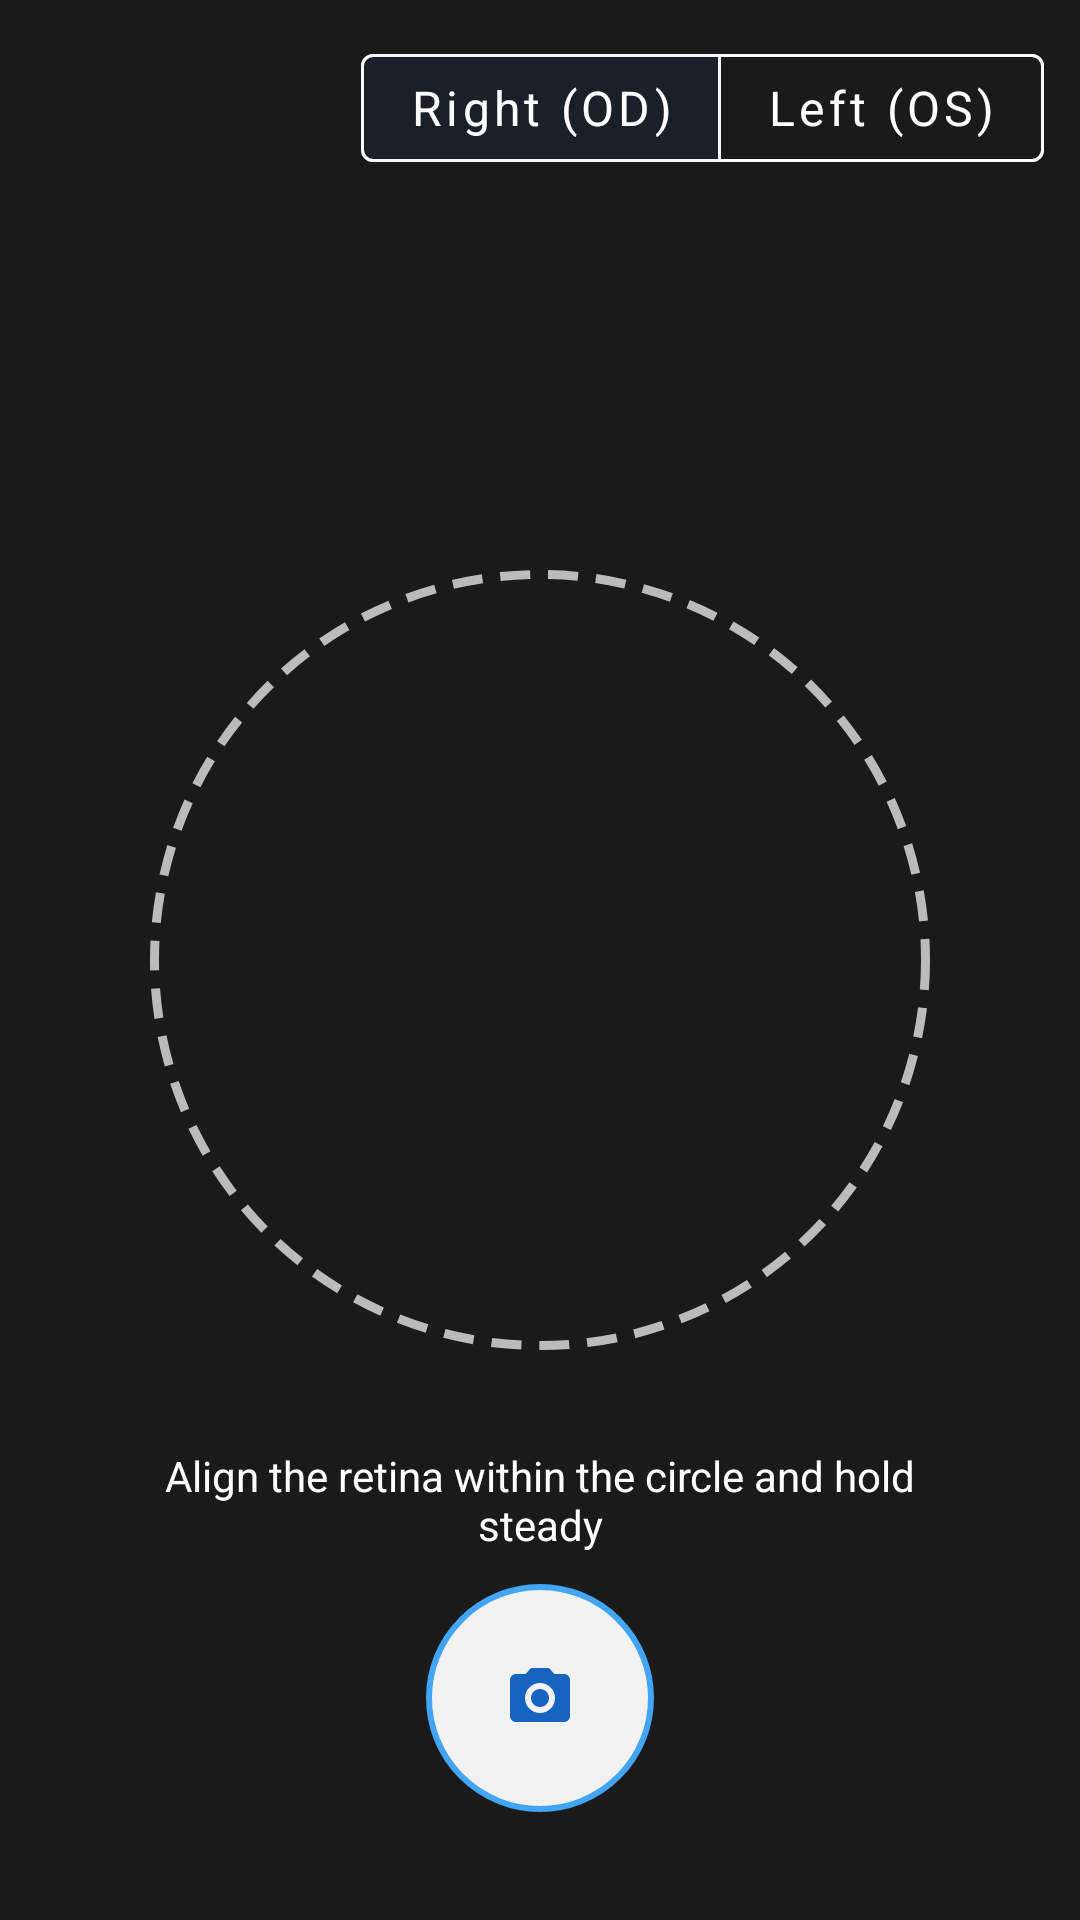

Icon bounding boxes for this 1080x1920 phone screenshot, format (x1=x1, y1=y1, x2=x2, y2=y2):
camera: (x1=426, y1=1584, x2=654, y2=1812)
